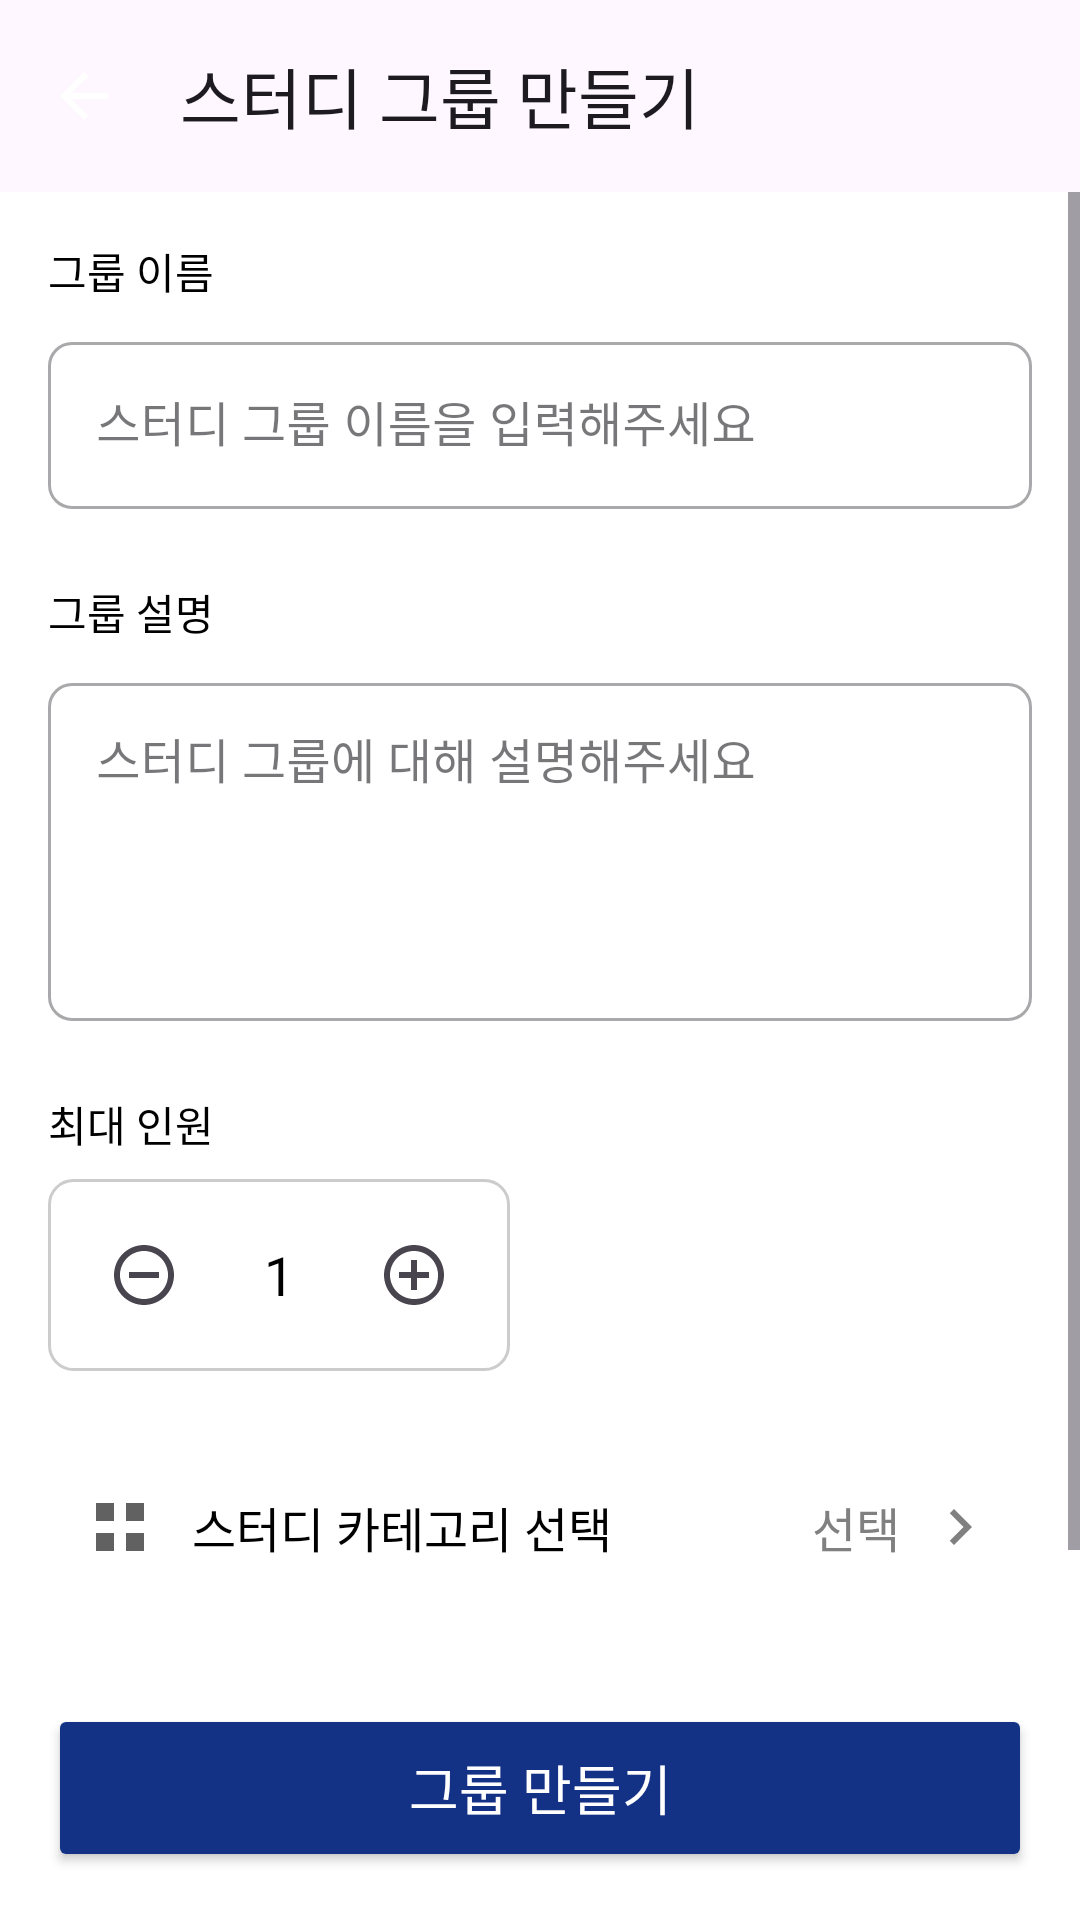

Icons on this 1080px×1920px Android screen, each with the point to tap as [x,y]:
category: [120,1527]
chevron right: [961,1527]
인원 감소: [144,1275]
인원 증가: [414,1275]
